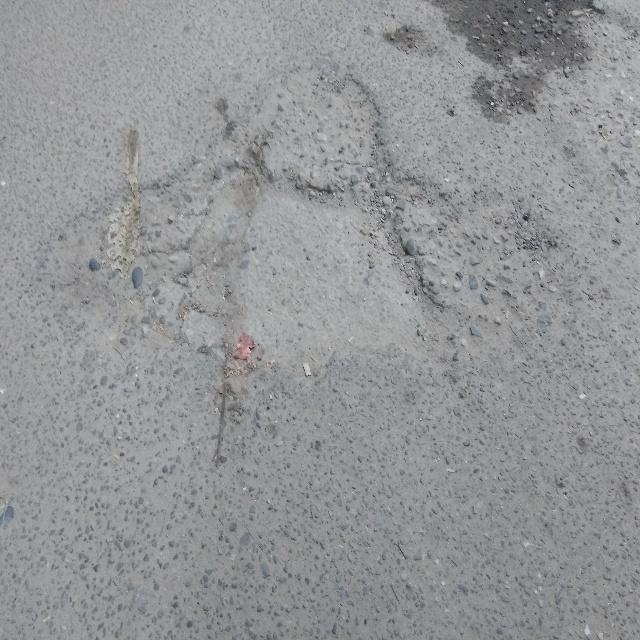Surface Erosion: (79, 69, 568, 532)
